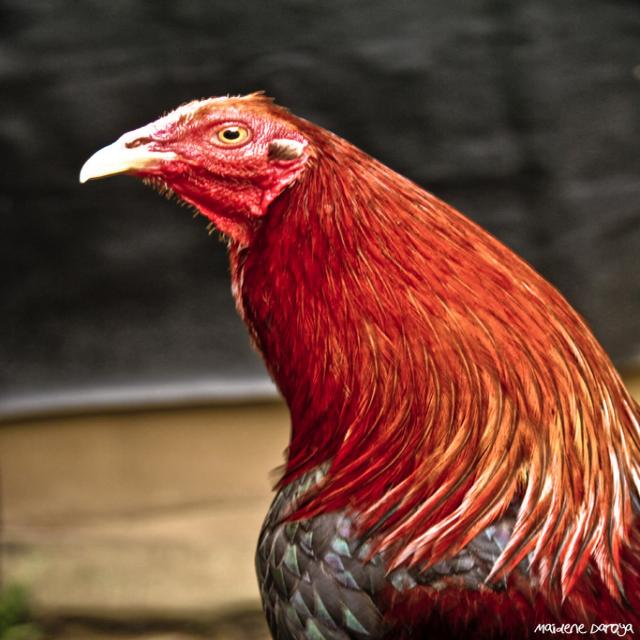Chicken: (79, 90, 640, 640)
